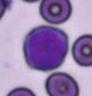M: (22, 25, 69, 70)
